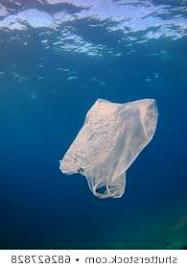Trash: (41, 73, 163, 234)
